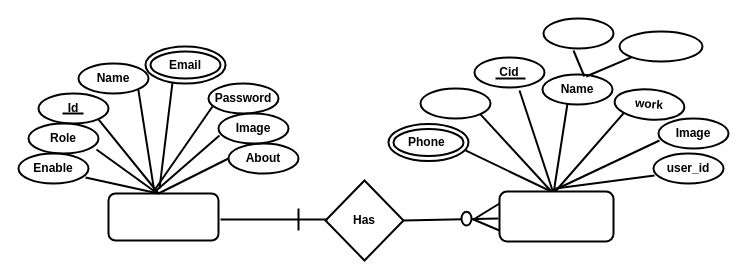
The diagram is 746 pixels wide and 278 high, and some of its shapes have lost their labels. Here are the shapes that lost their labels. From the top down, the centre of each, then its label:
the point at 578,33: first_name
the point at 660,46: second_name
the point at 455,103: Discription
the point at 163,216: USER
the point at 556,216: CONTACT
